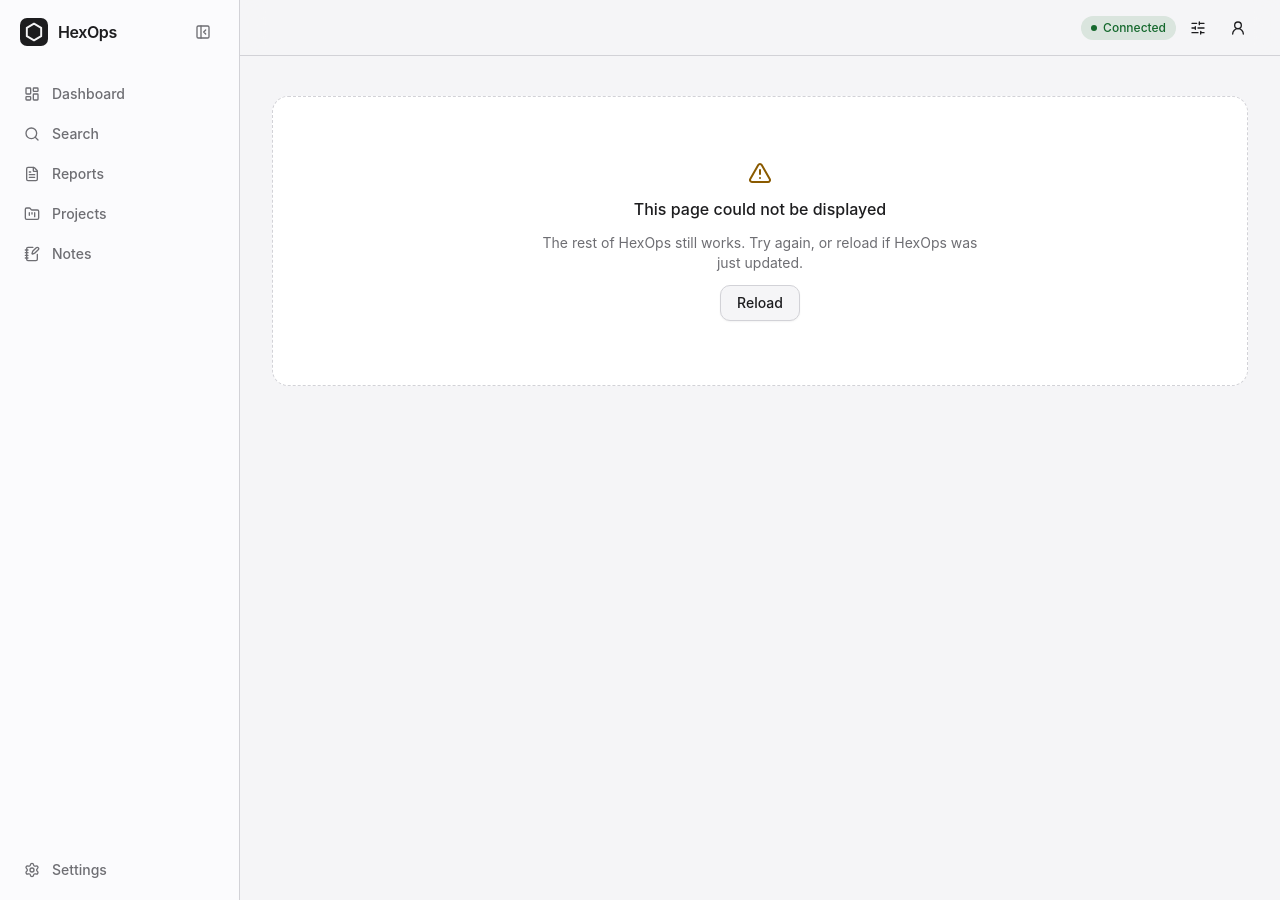
Test: error isolation › navigating away from a failed page clears the error
Expected: the heading "This page could not be displayed" is shown, [634,197,886,221]
Click the link "Dashboard". click: (74, 94)
box: [24,85,125,102]
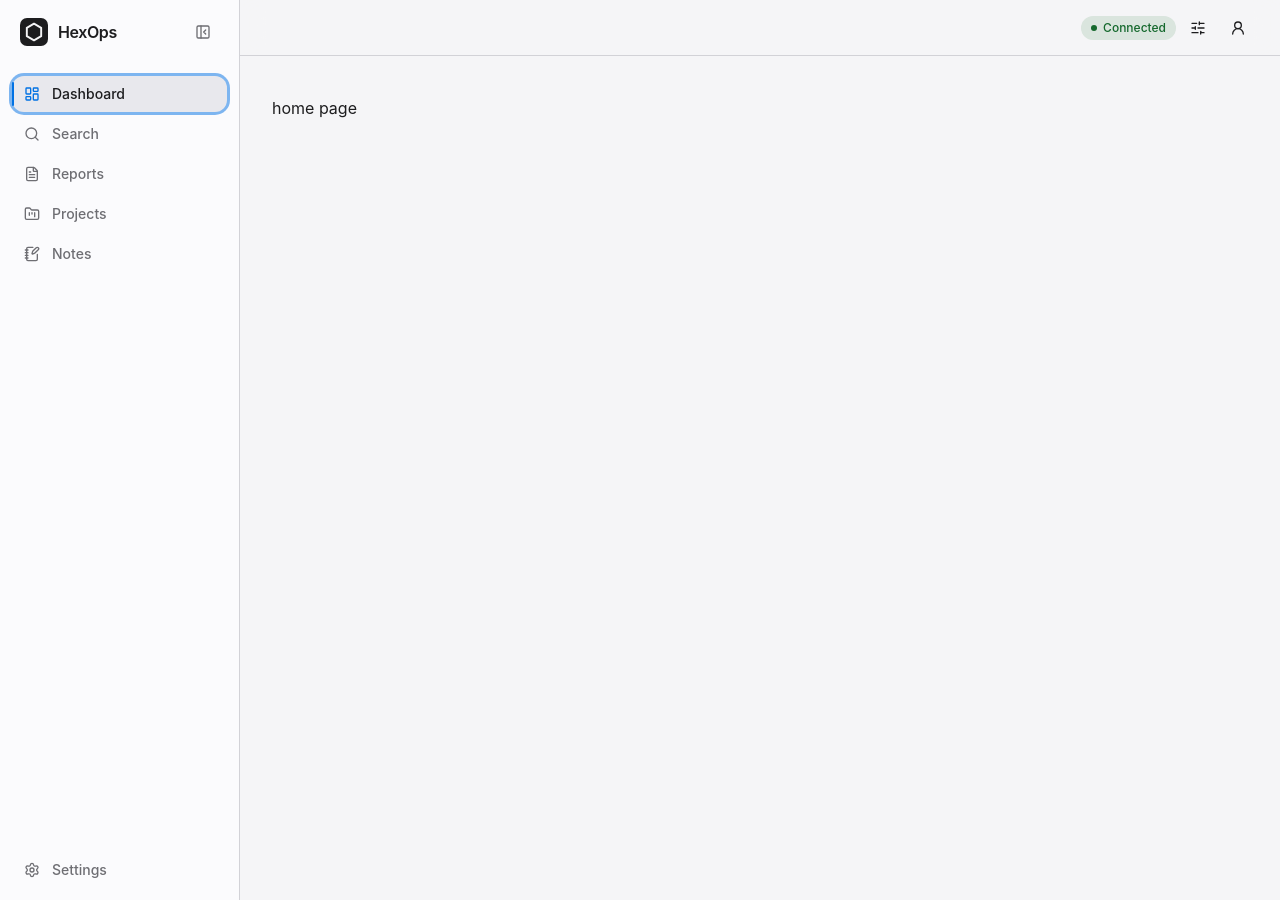
Expected: the heading "home page" is shown, [272,98,357,118]
Expected: the heading "This page could not be displayed" is gone
